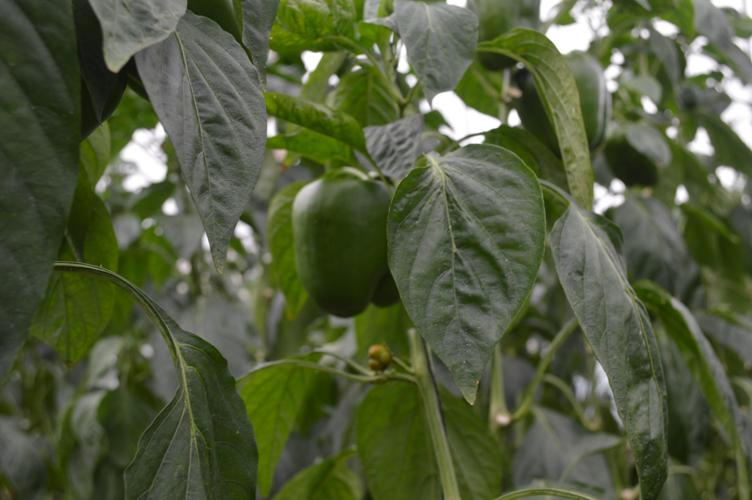BellPepper: (283, 176, 427, 320), (519, 60, 617, 158)
